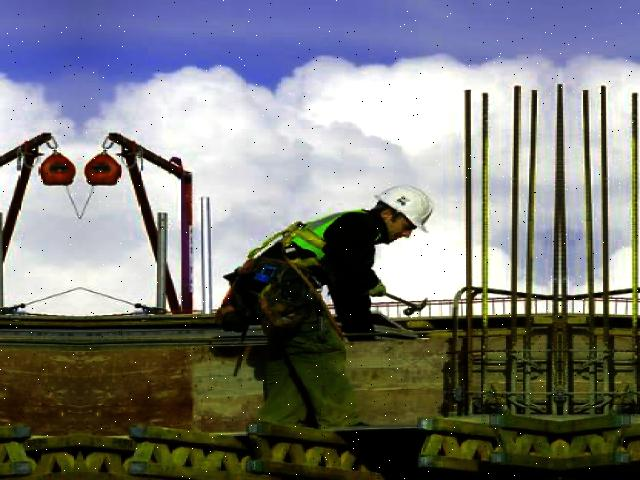Helmet: (368, 180, 436, 237)
